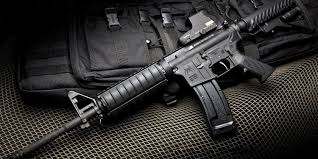Weapon: (26, 2, 304, 156)
